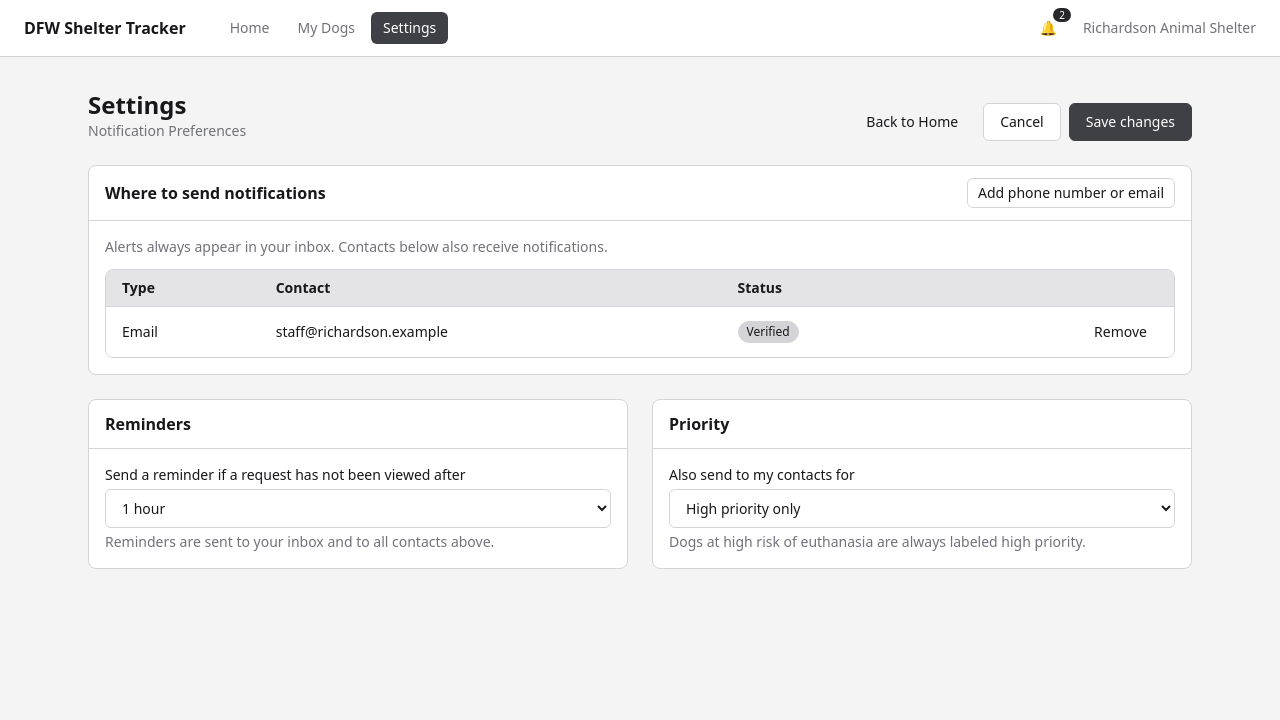
Test: UC-15 Manage Notification Preferences (screen) › TC-15-06 (screen) a duplicate is refused with the exact message; Remove deletes the contact
Click the button "Add phone number or email": (1071, 193) [967, 178, 1175, 208]
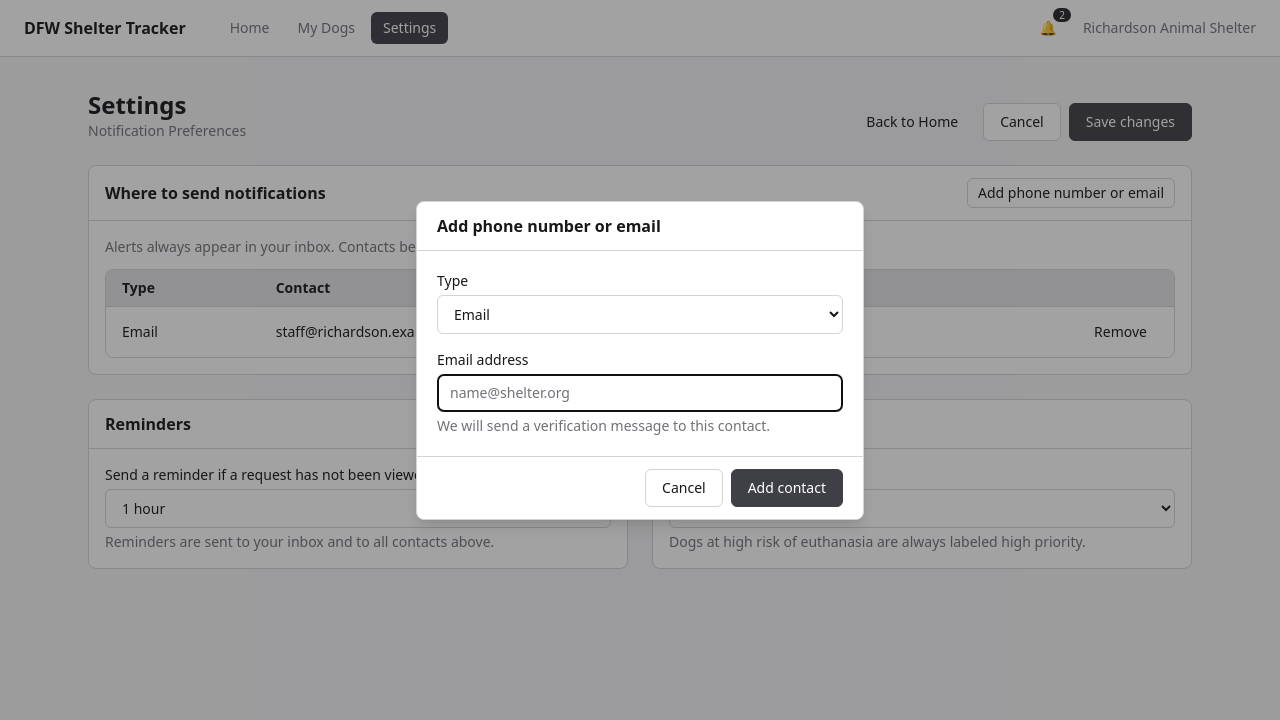
Select "Email" in the dropdown labelled "Type": (640, 314) [437, 294, 843, 334]
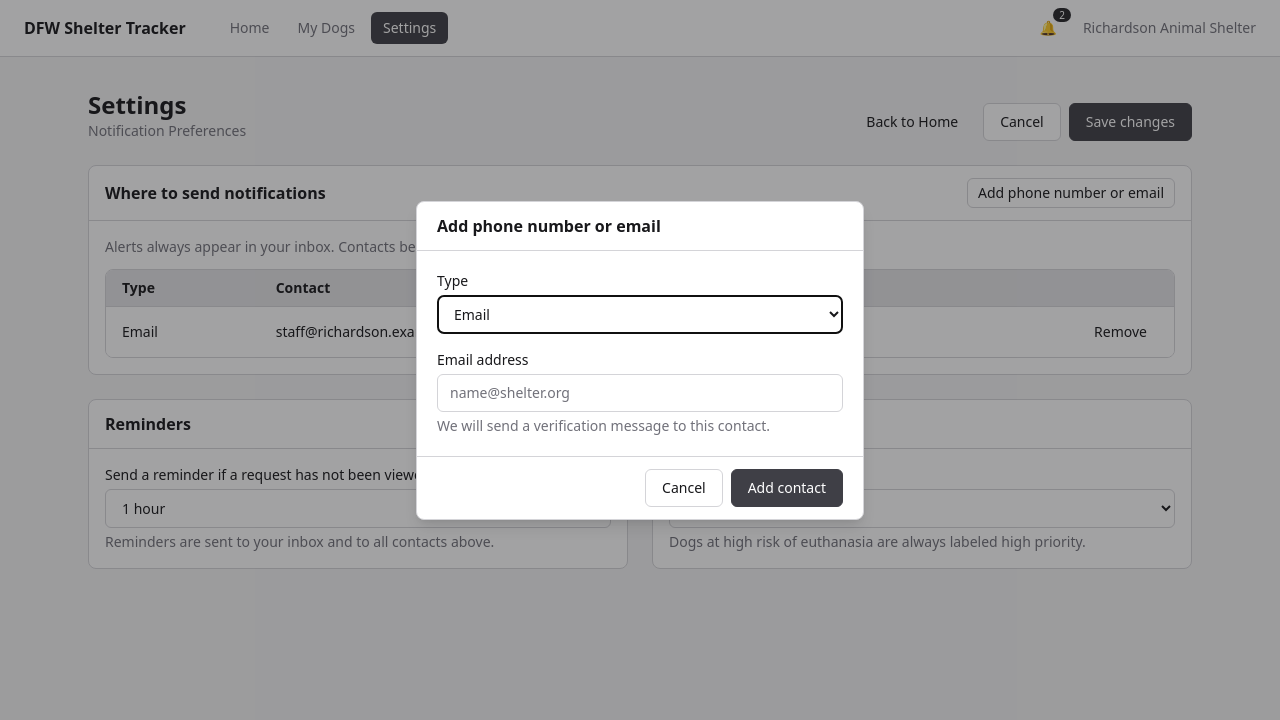
In the field labelled "Email address": (640, 392) [437, 374, 843, 412], type "staff@richardson.example"
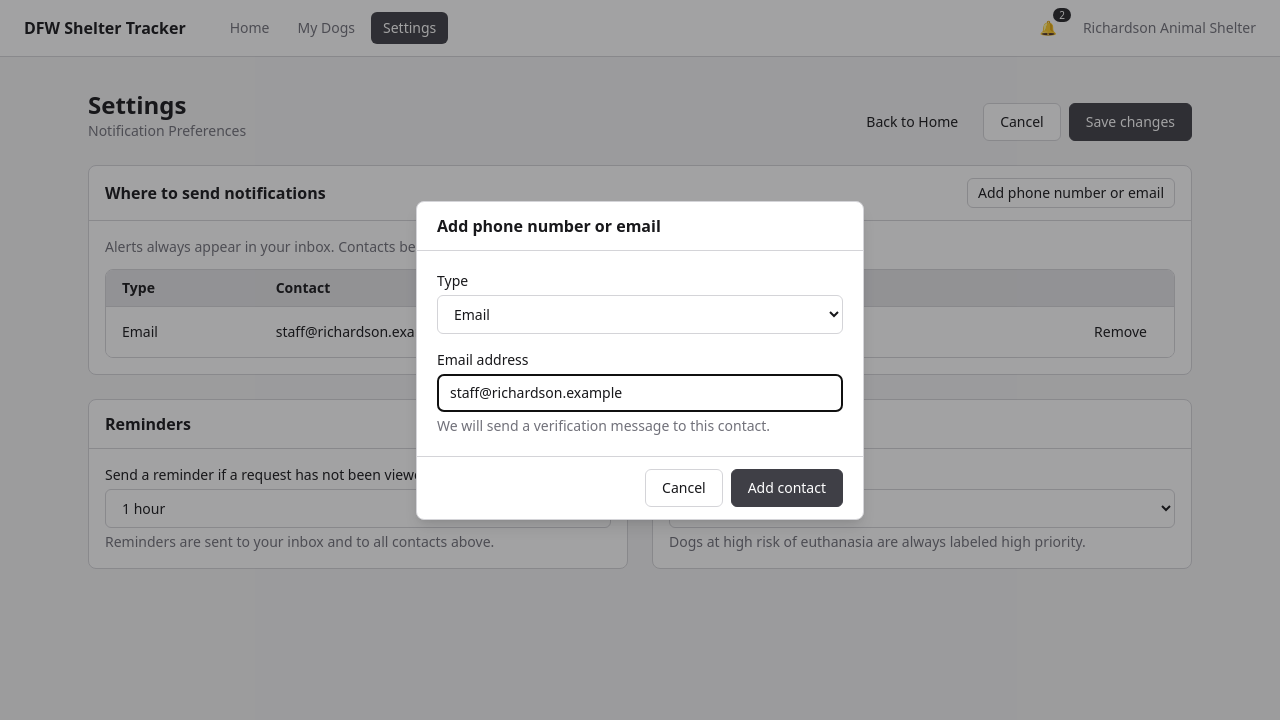
Click the button "Add contact": (787, 488) [731, 468, 843, 506]
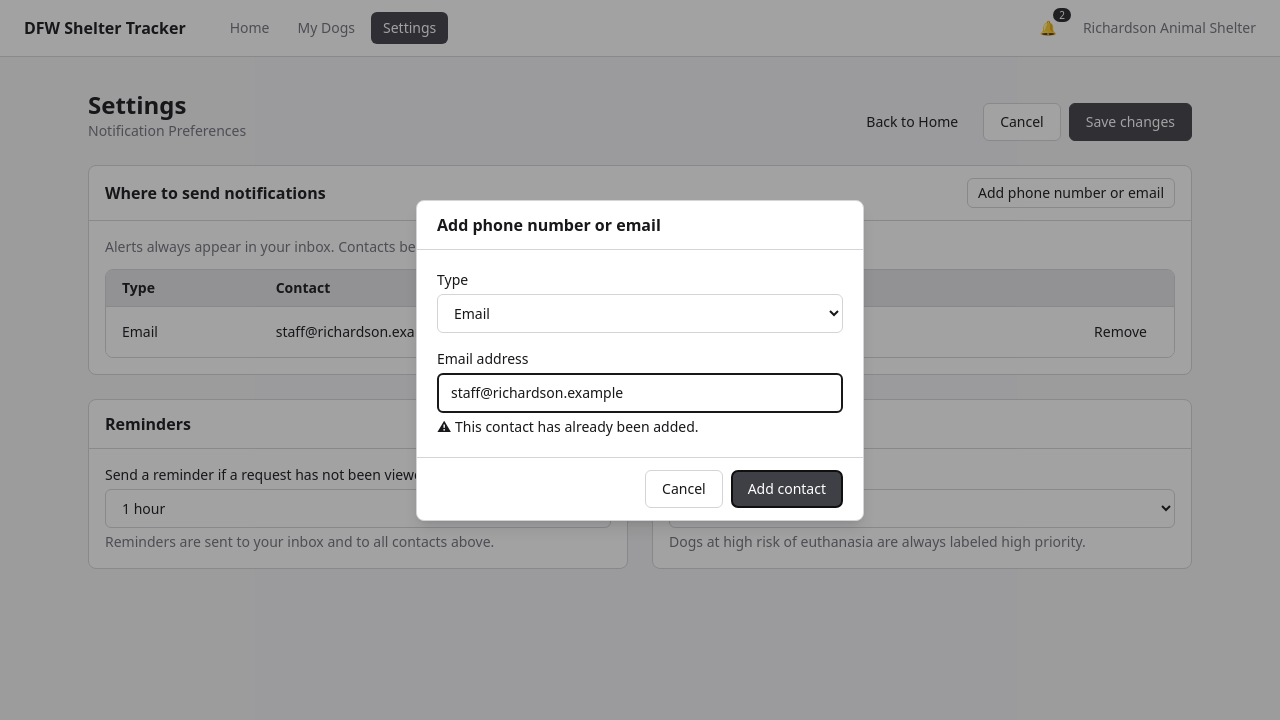
Now the text "⚠ This contact has already been added." is shown, box [437, 416, 698, 436]
Click the button "Cancel": (684, 488) [645, 470, 723, 508]
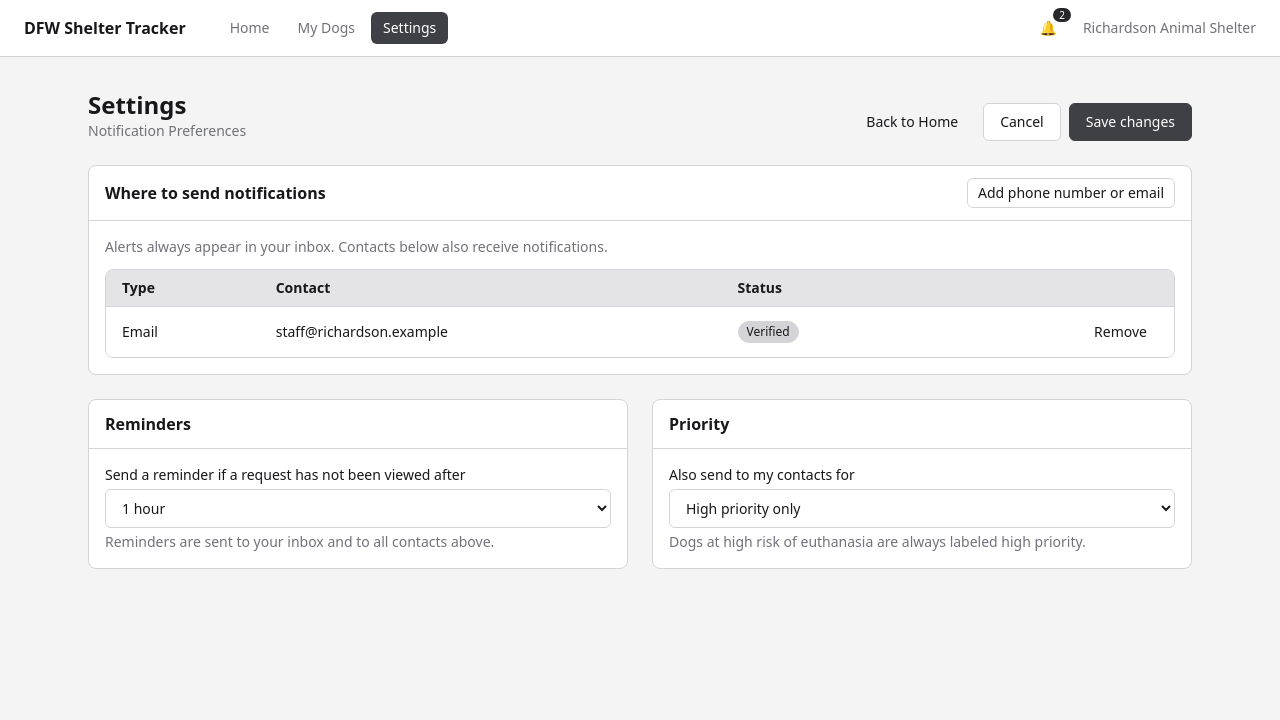
Click the button with aria-label "Remove staff@richardson.example": (1121, 332) [1083, 317, 1158, 347]
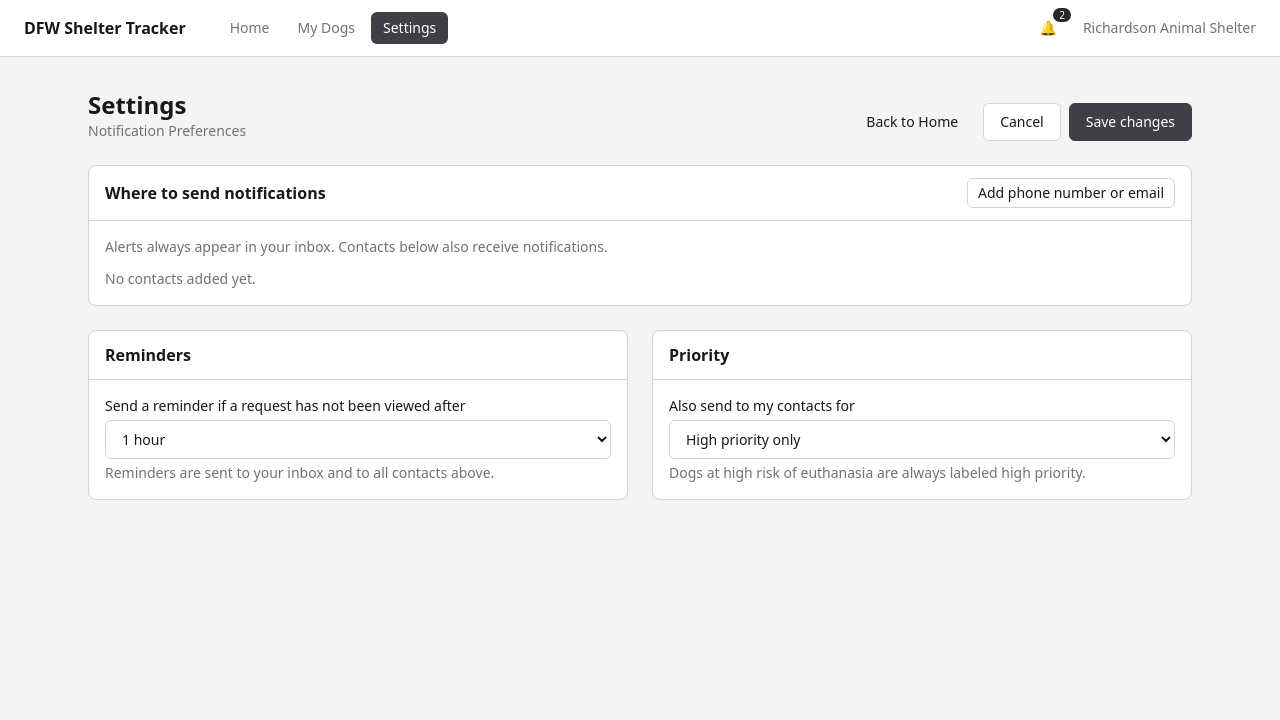
Now the text "No contacts added yet." is shown, box [105, 269, 256, 288]
